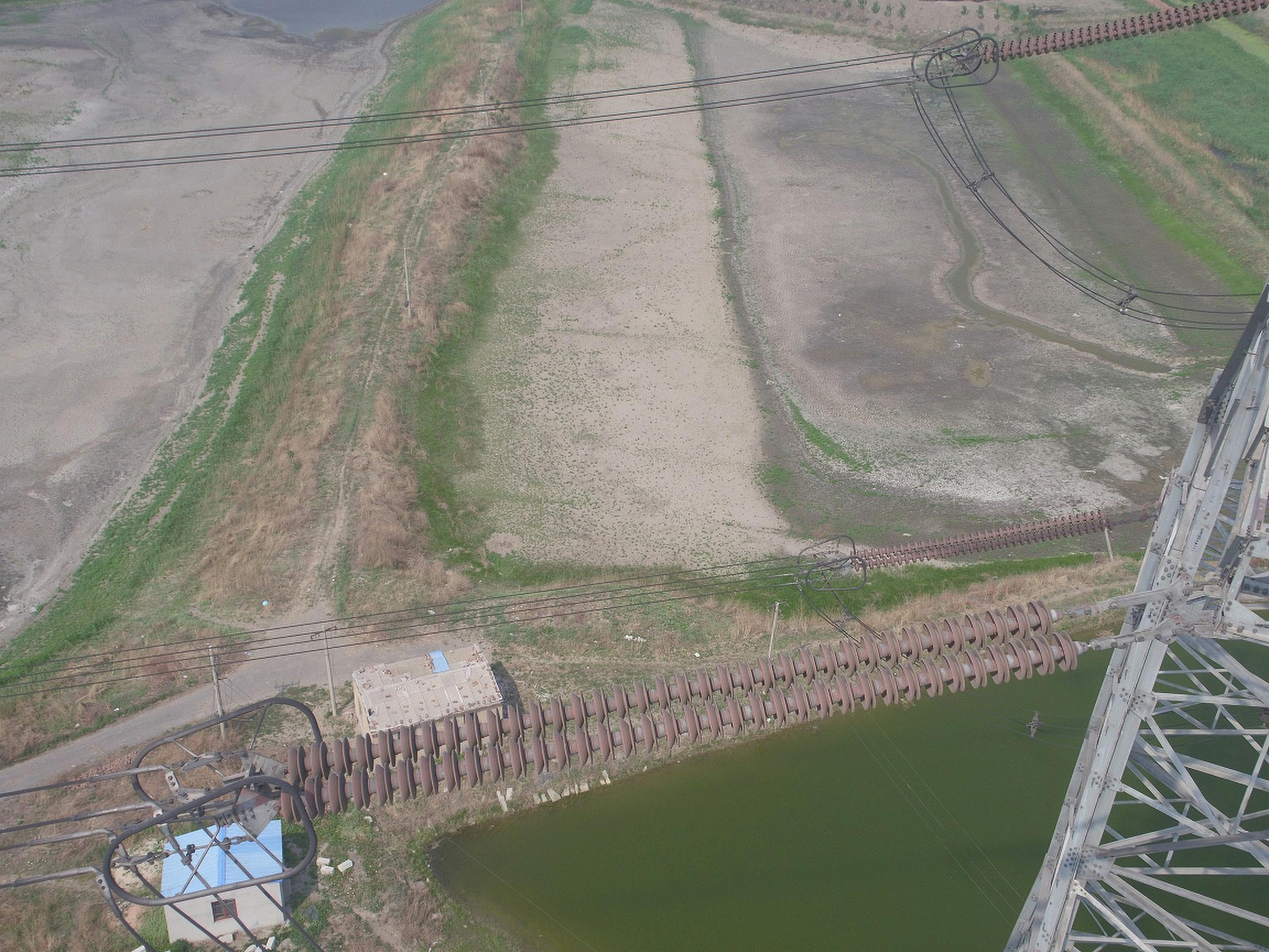insulator: (276, 597, 1084, 830), (974, 1, 1269, 67), (848, 507, 1114, 574)
